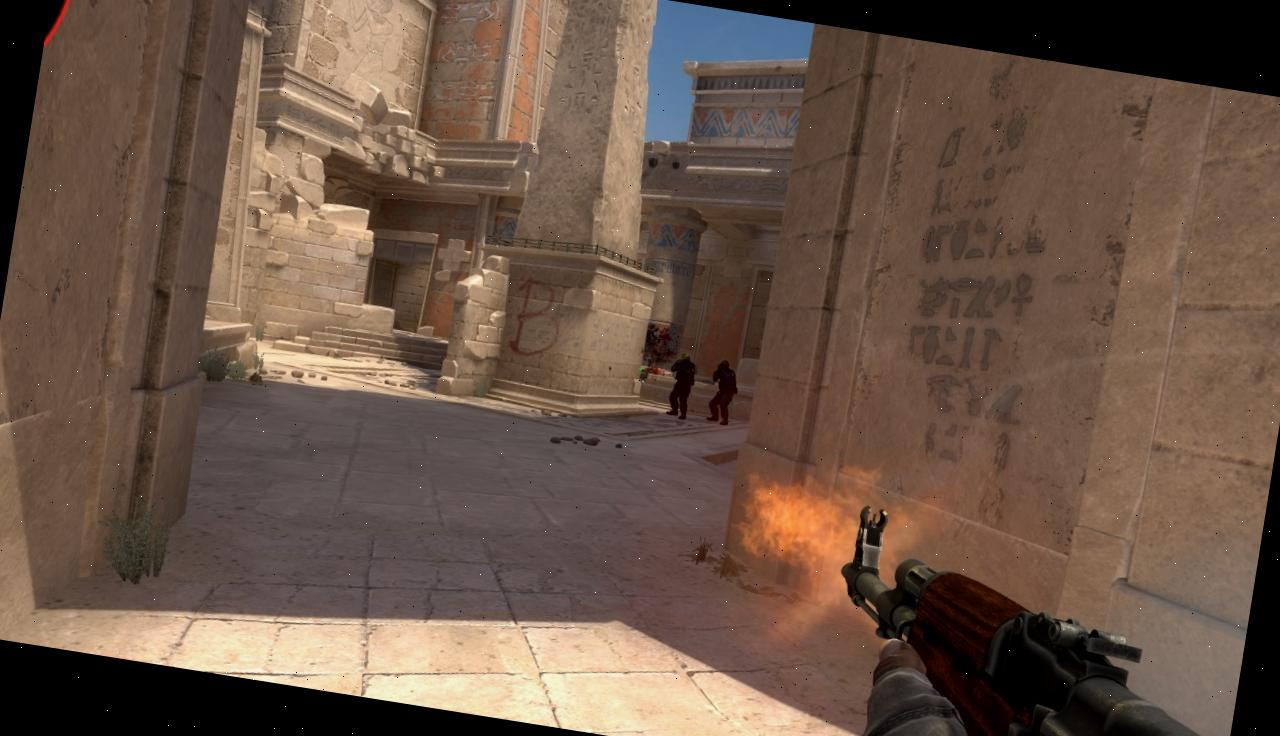ct: (666, 352, 697, 420), (707, 358, 738, 424)
cthead: (718, 360, 728, 371), (680, 353, 690, 363)
rifle: (817, 510, 1255, 736)
